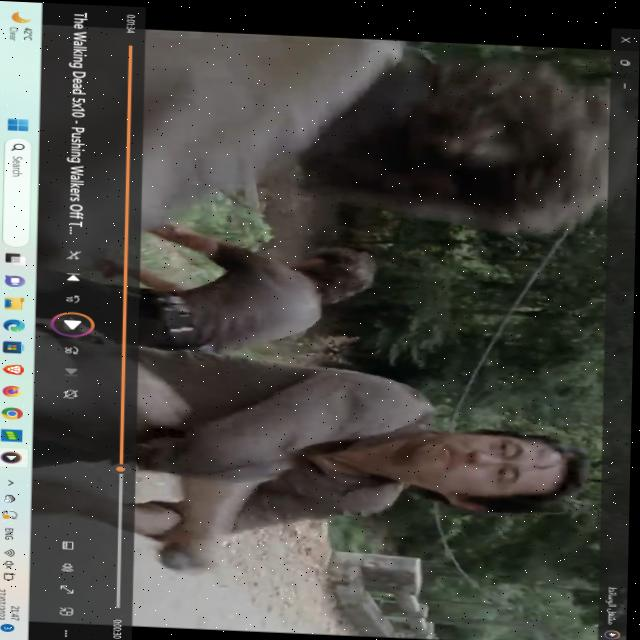human: (398, 417, 587, 507)
